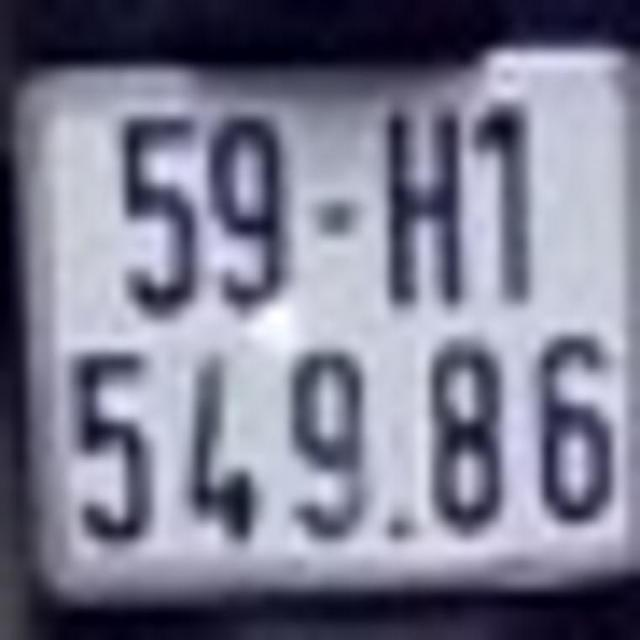1: (475, 95, 552, 307)
4: (181, 344, 266, 551)
5: (119, 98, 200, 319), (70, 343, 156, 547)
6: (531, 321, 618, 529)
8: (424, 330, 507, 541)
9: (203, 96, 290, 314), (288, 336, 366, 546)
H: (381, 101, 471, 314)
